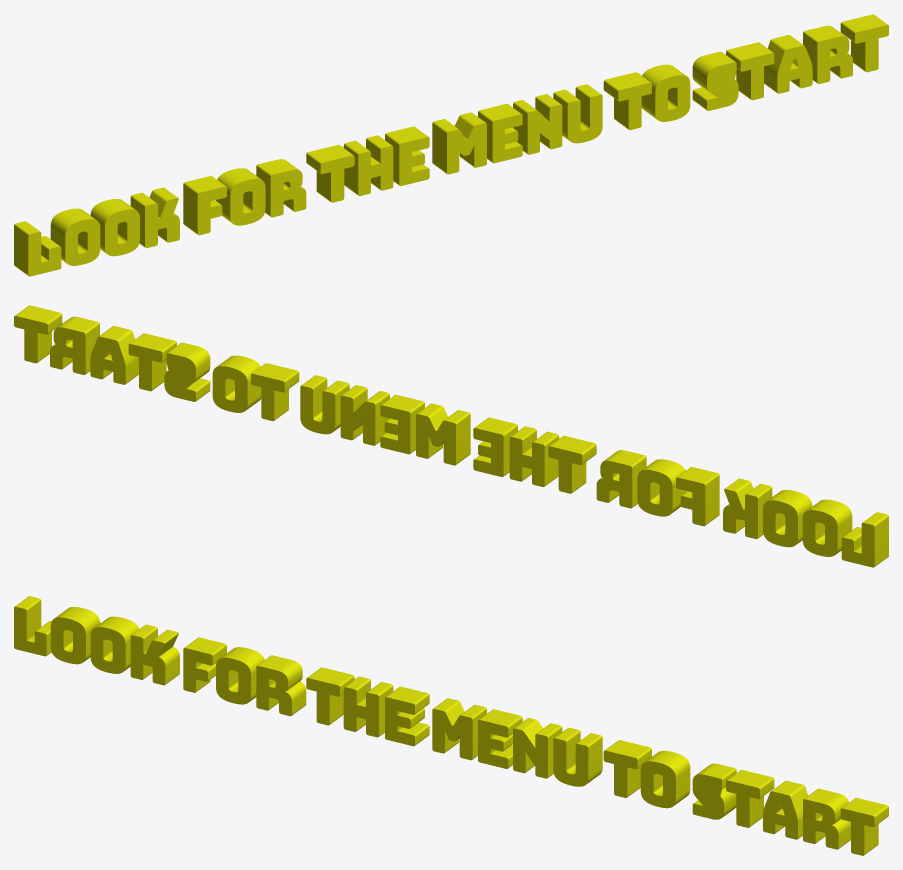
File: lookForTheMEnu.fbx
3 views of the same model, one above another, from view 1: azimuth 30°, elevation 25°; view 2: azimuth 150°, elevation 25°; view 3: azimuth 330°, elevation 25° (orthographic).
Visible parts, largest first — view 1: typeMesh1; view 2: typeMesh1; view 3: typeMesh1.
Boxes of the visible parts, x1,y1,x2,y2 form: typeMesh1: (14, 14, 888, 276); typeMesh1: (14, 305, 888, 567); typeMesh1: (14, 596, 888, 855).
Bounding box in the file's own units: 10.54 × 0.5192 × 0.3069.
